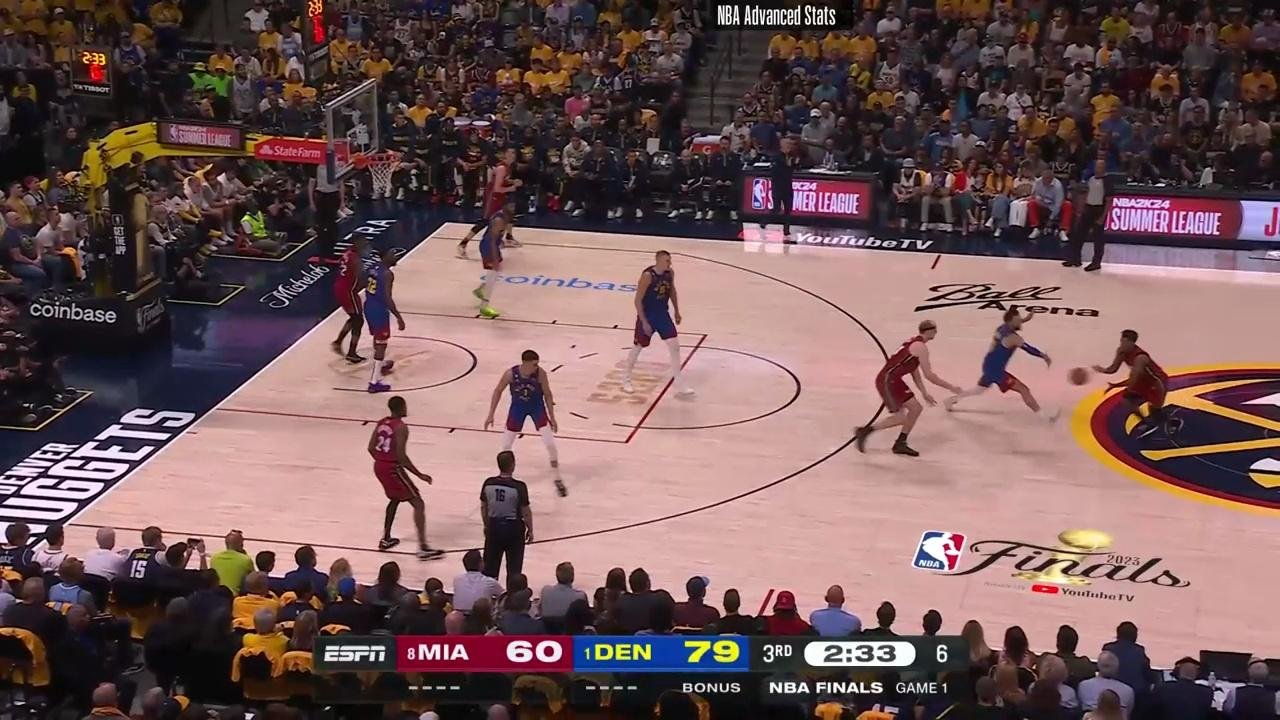Backboard: (325, 79, 371, 188)
Ball: (1068, 365, 1089, 386)
Basket: (364, 153, 398, 195)
Person: (854, 314, 958, 458), (364, 394, 440, 561), (491, 342, 566, 489), (618, 242, 687, 385), (970, 302, 1052, 415), (1101, 324, 1178, 433), (343, 252, 403, 378), (321, 238, 370, 358), (469, 203, 517, 318), (475, 148, 518, 236)
Referee: (477, 451, 541, 589), (1073, 155, 1117, 272), (312, 167, 354, 261)
Shot Clock: (70, 47, 121, 105), (302, 0, 333, 74)
